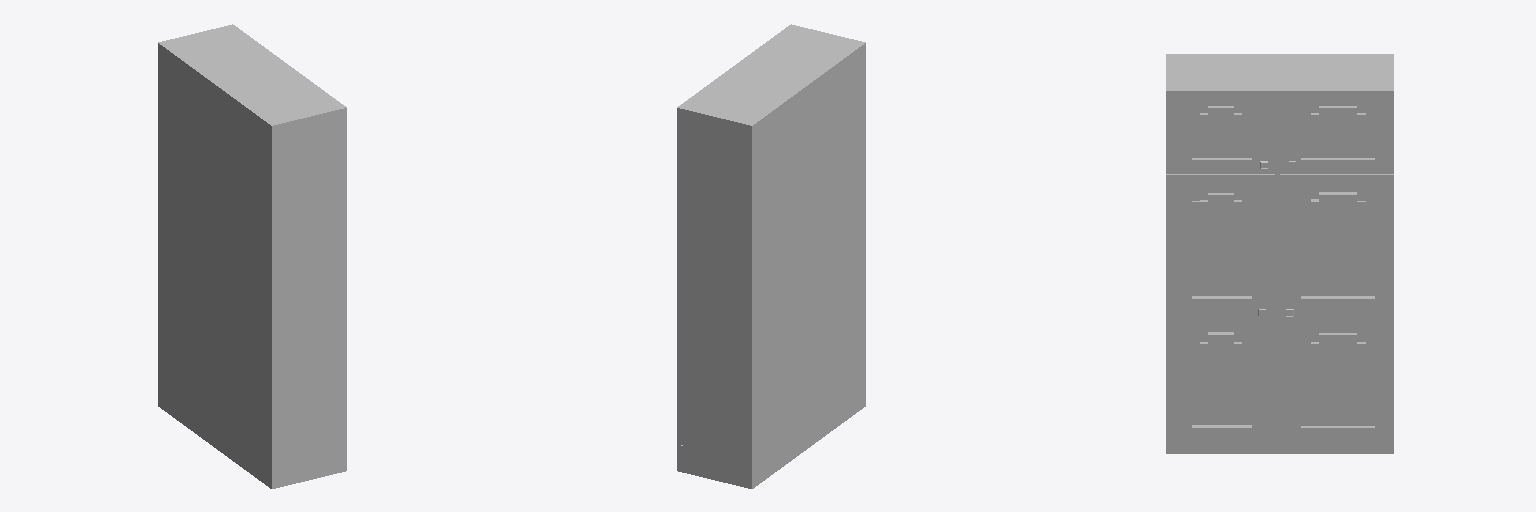
The model's file is Dulap.obj.
3 renders of one model, left to right at view 1: azimuth 30°, elevation 25°; view 2: azimuth 150°, elevation 25°; view 3: azimuth 270°, elevation 25°, orthographic.
Parts seen in each view (by area): view 1: dulap; view 2: dulap; view 3: dulap.
Part boxes in pixels (x1,y1,x2,y2): dulap: (158,24,346,488); dulap: (677,24,865,488); dulap: (1166,54,1393,453).
Bounding box in the file's own units: 2.19 × 9.23 × 5.24.